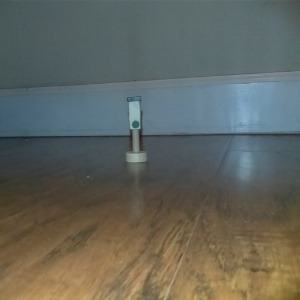traffic light green: (123, 94, 148, 164)
